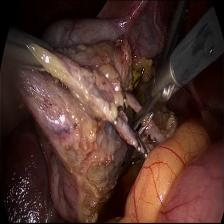Grasper: (2, 29, 57, 75), (157, 0, 190, 64)
Scissors: (127, 58, 183, 132)
